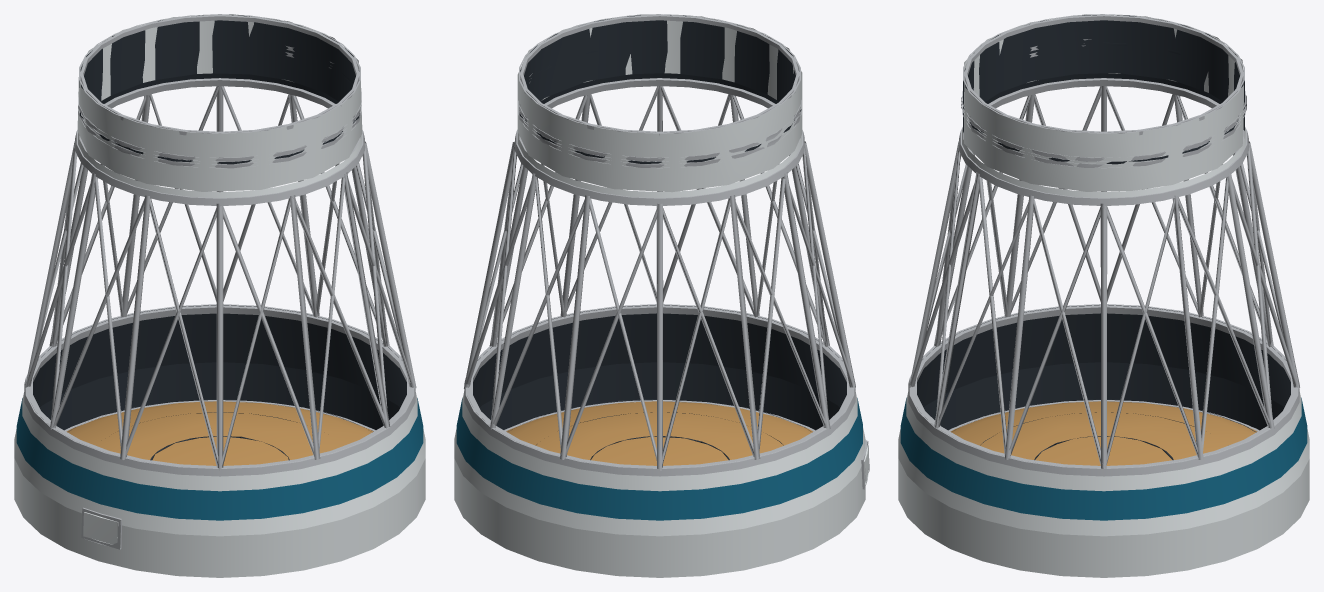
The model's file is interstage_hot_staging_d54_to_d37.glb.
3 views of the same model, side by side, from view 1: azimuth 30°, elevation 25°; view 2: azimuth 150°, elevation 25°; view 3: azimuth 270°, elevation 25° (orthographic).
Parts seen in each view (by area): view 1: interstage_hot_staging_d54_to_d37_mesh; view 2: interstage_hot_staging_d54_to_d37_mesh; view 3: interstage_hot_staging_d54_to_d37_mesh.
Boxes of the visible parts, left/top/right/bottom form: interstage_hot_staging_d54_to_d37_mesh: left=14, top=14, right=425, bottom=577; interstage_hot_staging_d54_to_d37_mesh: left=454, top=14, right=869, bottom=577; interstage_hot_staging_d54_to_d37_mesh: left=898, top=14, right=1309, bottom=577.
Size of the model in its own units: 5.4 by 6 by 5.37.
